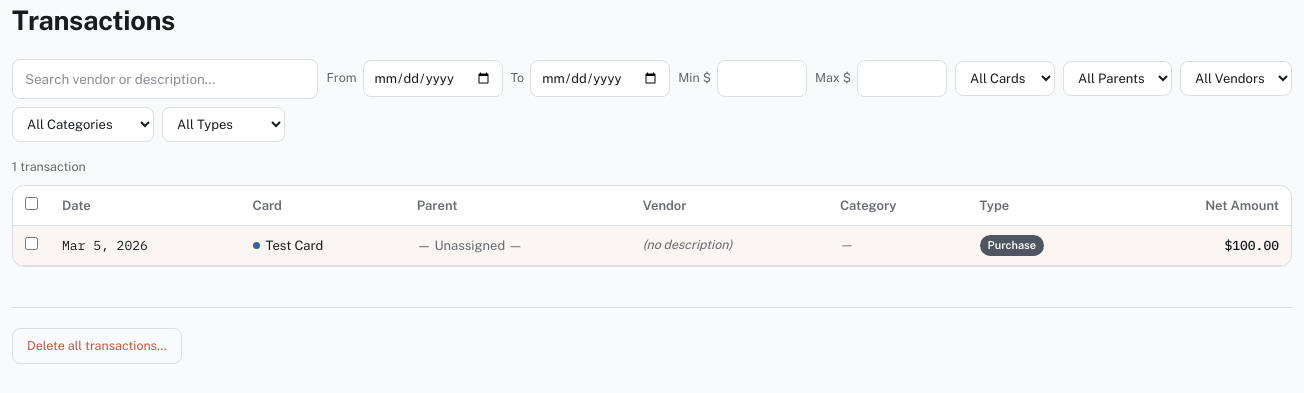
Transactions bulk-selection › clears the selection when the search text changes
Click the checkbox named "Select transaction Mar 5, 2026 COSTCO WHOLESALE #123 $100.00": (32, 243) [25,236,38,250]
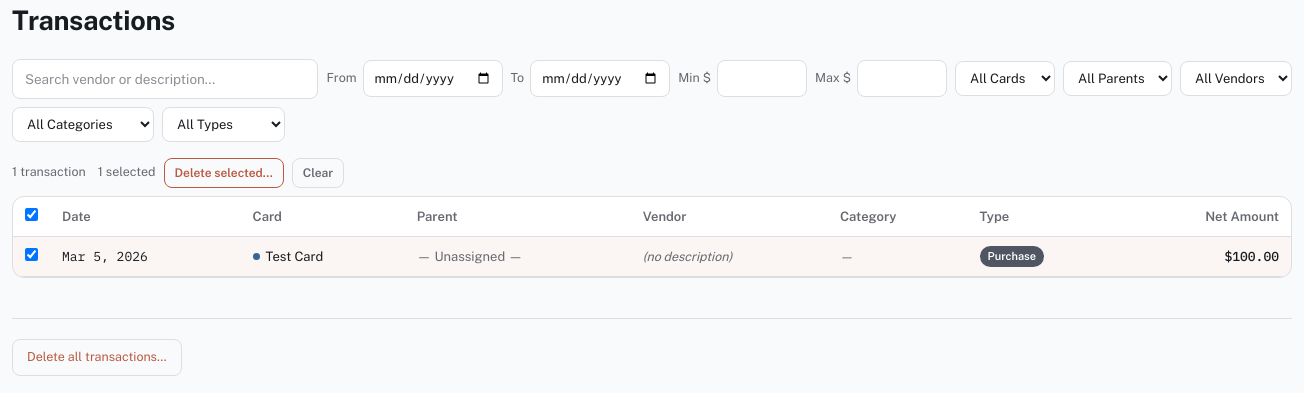
Expected: the text "1 selected" is shown, [98,163,156,182]
In the field with placeholder "Search vendor or description…": (165, 79) [12,58,318,99], type "something"
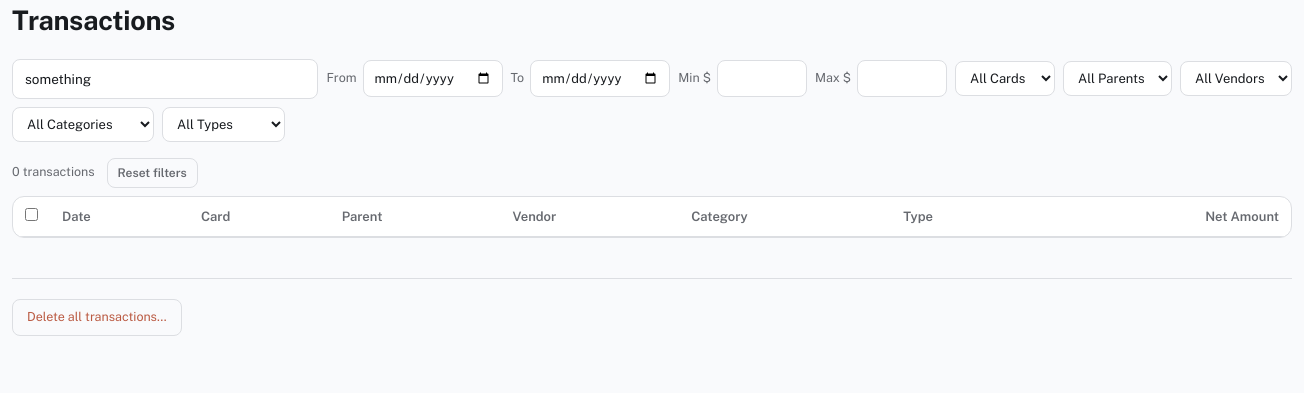
Expected: the text "1 selected" is gone
